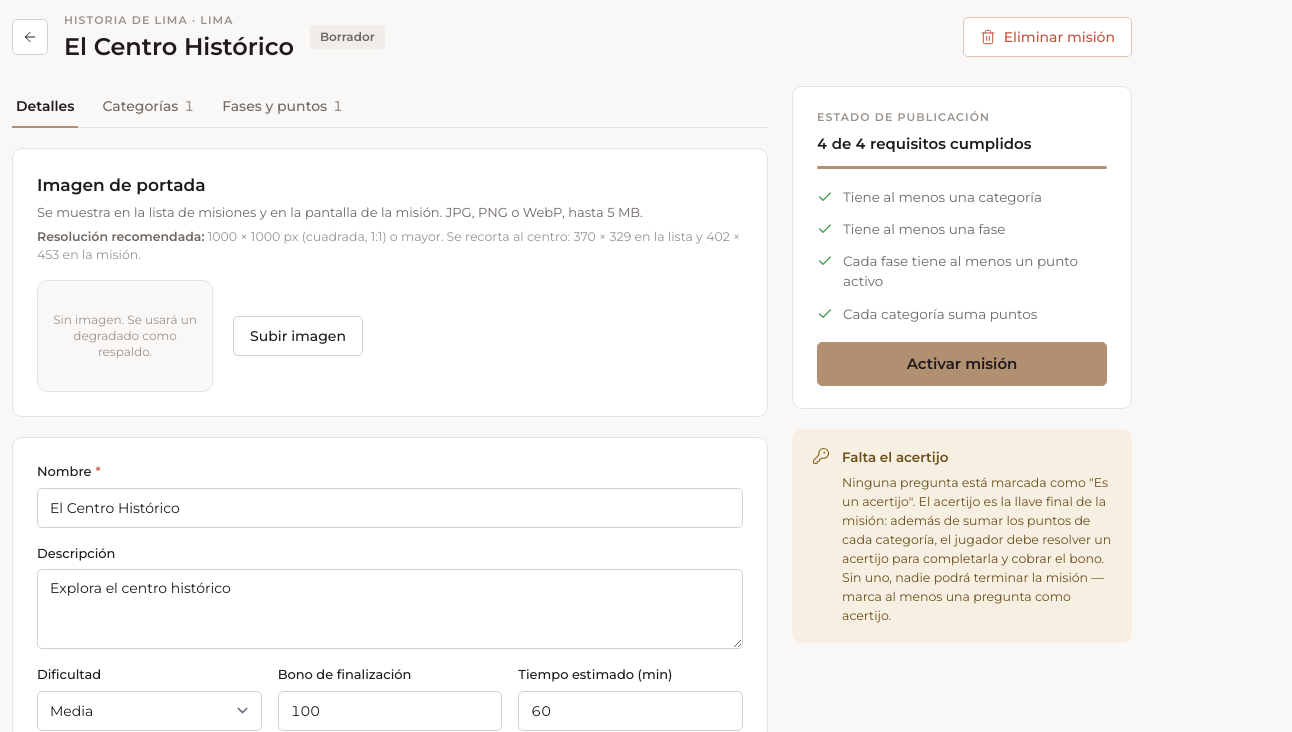
it: Mission activation — readiness panel (mirrors §8.4 assert_mission_completable) › enables the button when ready and activates via PATCH {is_active: true}
This screenshot has width=1292, height=732.
Click the button "Activar misión" at x=962, y=364, box [817, 342, 1107, 386]
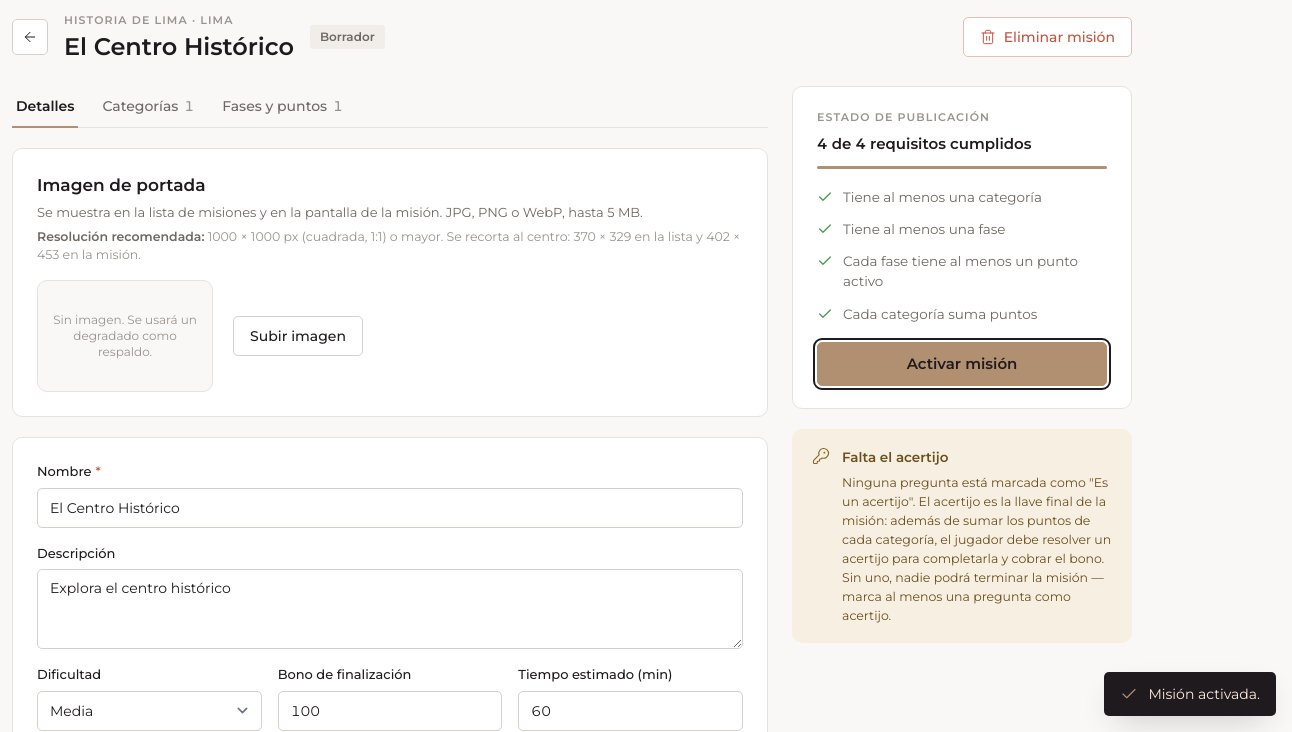
Expected: the text "Misión activada." is shown, [1104, 672, 1276, 716]
